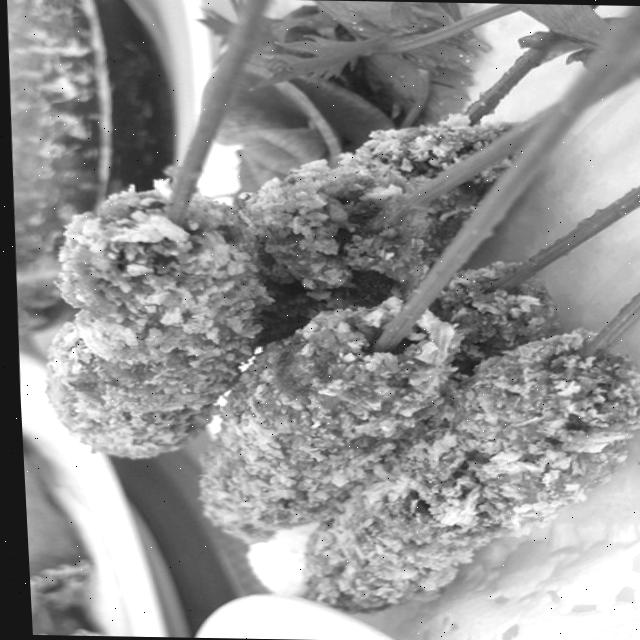烧串烤肉: (1, 20, 640, 640)
